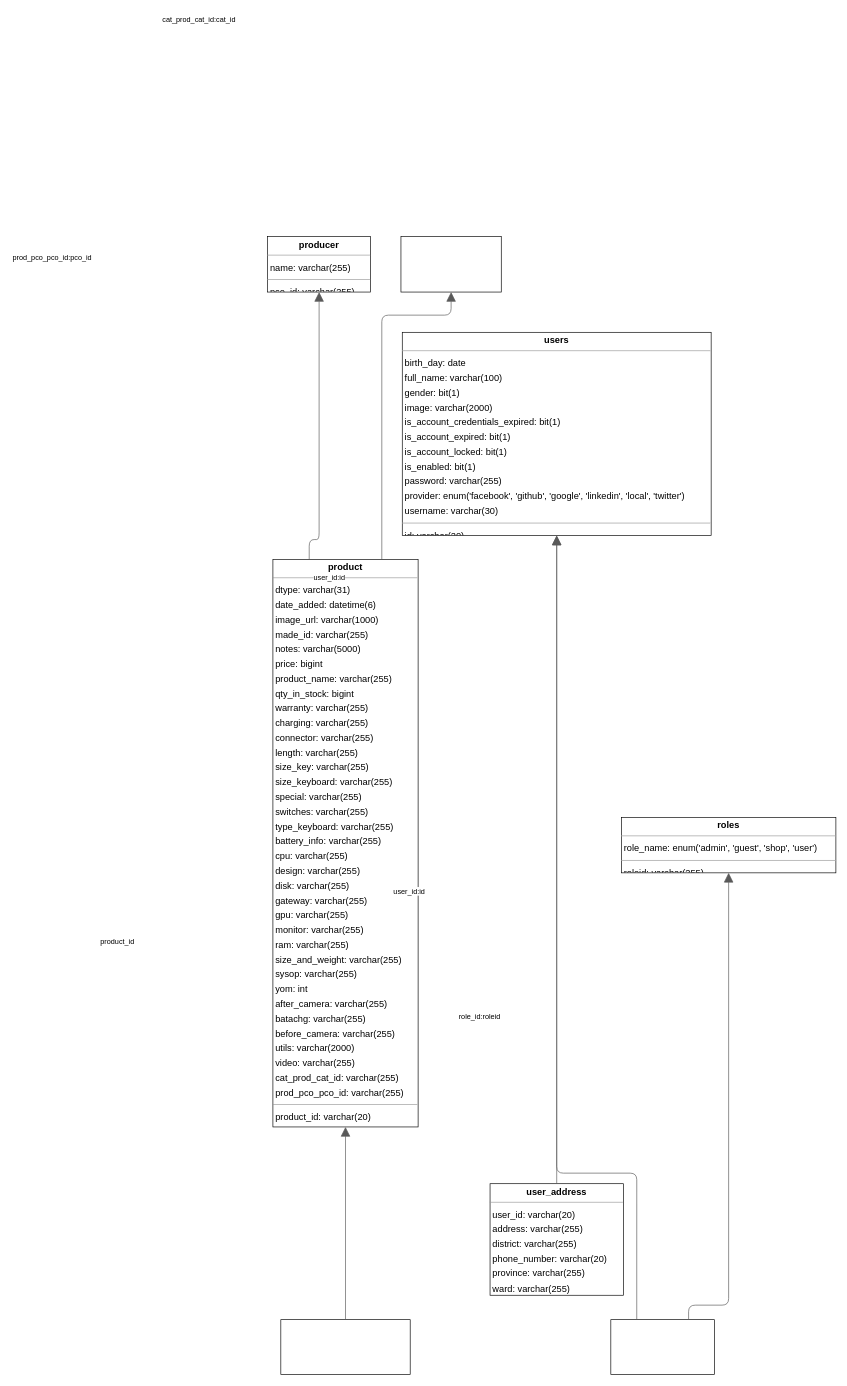
Image size: 847x1386. Some labels were removed from this diagram. Here are the shapes that lost their labels. From the top down, the centre of each, then its label:
pixel 450 264: category name: varchar(255) cat_id: varchar(255)
pixel 345 1346: image_prod product_id: varchar(20) image_prod: varchar(2000)
pixel 662 1346: user_role user_id: varchar(20) role_id: varchar(255)
